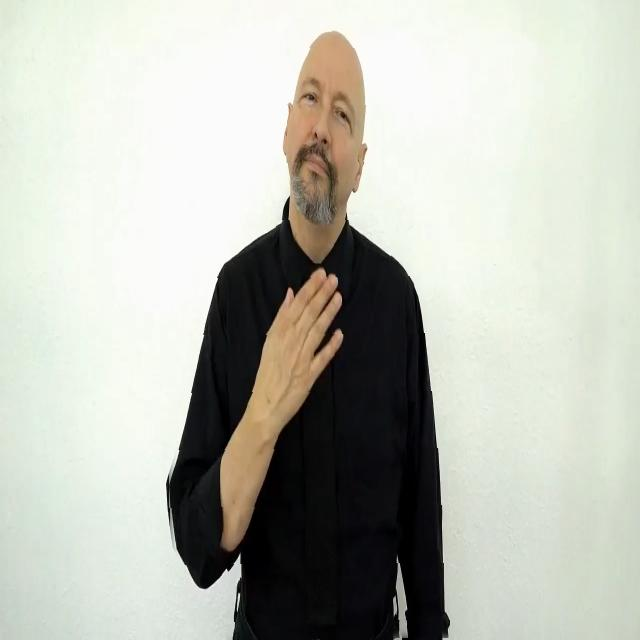ThankYou: (163, 27, 447, 640)
